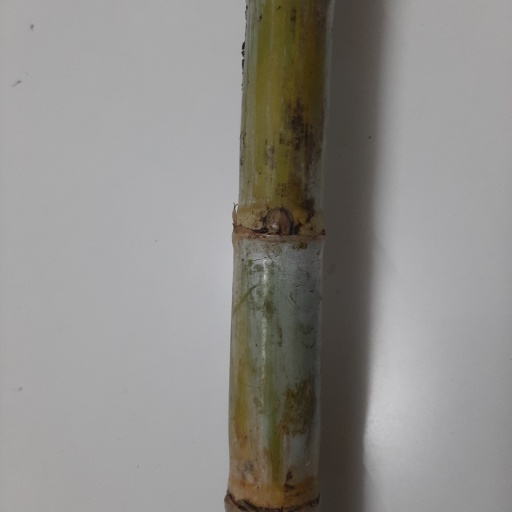Bud: (263, 207, 291, 235)
